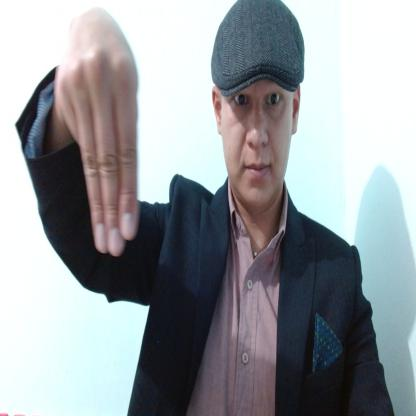M: (58, 10, 138, 258)
